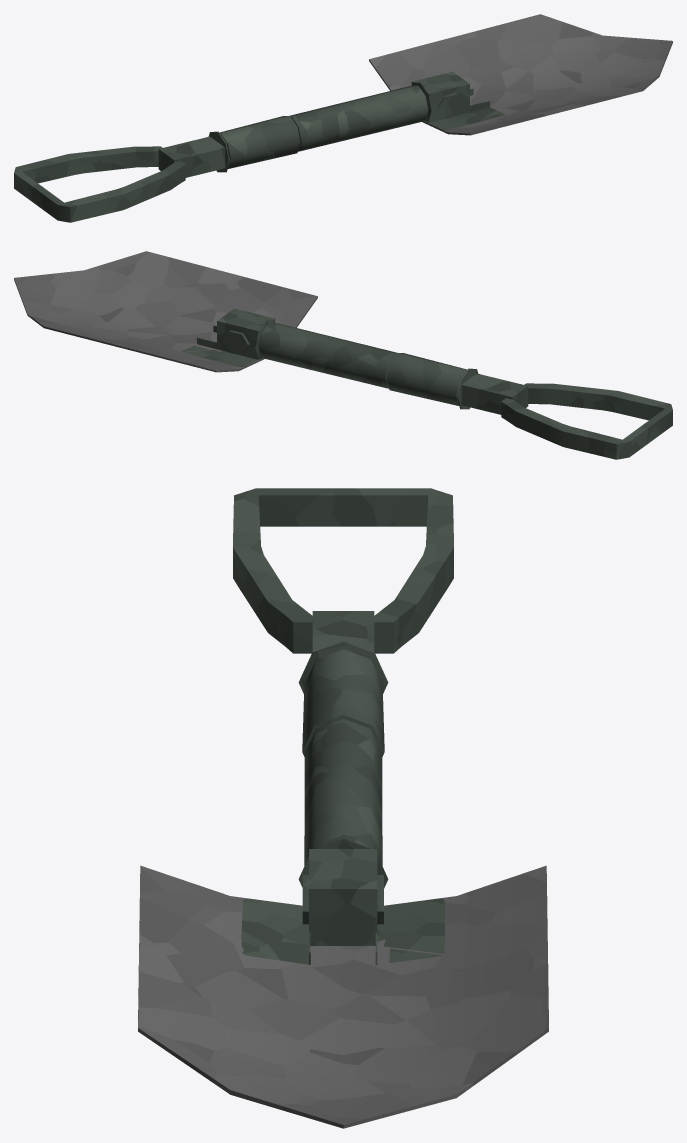
Rendered from Pala.fbx.
The picture shows the model from 3 angles, top to bottom: view 1: azimuth 30°, elevation 25°; view 2: azimuth 150°, elevation 25°; view 3: azimuth 270°, elevation 25°; orthographic projection. The views are drawn at different scales.
Visible parts, largest first — view 1: Pala; view 2: Pala; view 3: Pala.
Part boxes in pixels (<box>): Pala: <box>14,14,672,222</box>; Pala: <box>14,251,672,459</box>; Pala: <box>138,488,548,1128</box>.
Size of the model in its own units: 63.49 by 3.88 by 17.75.
Materials: 1 (1 with a texture image).
